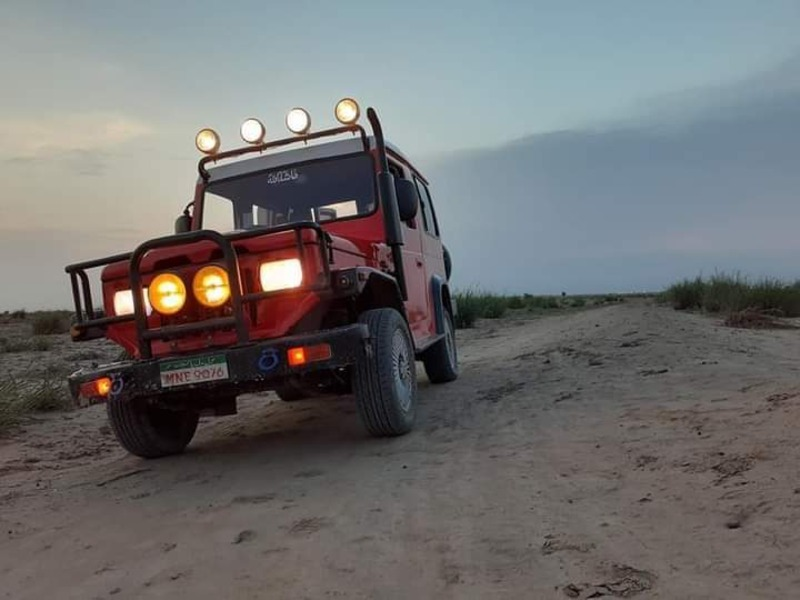License Plate: (152, 348, 231, 394)
